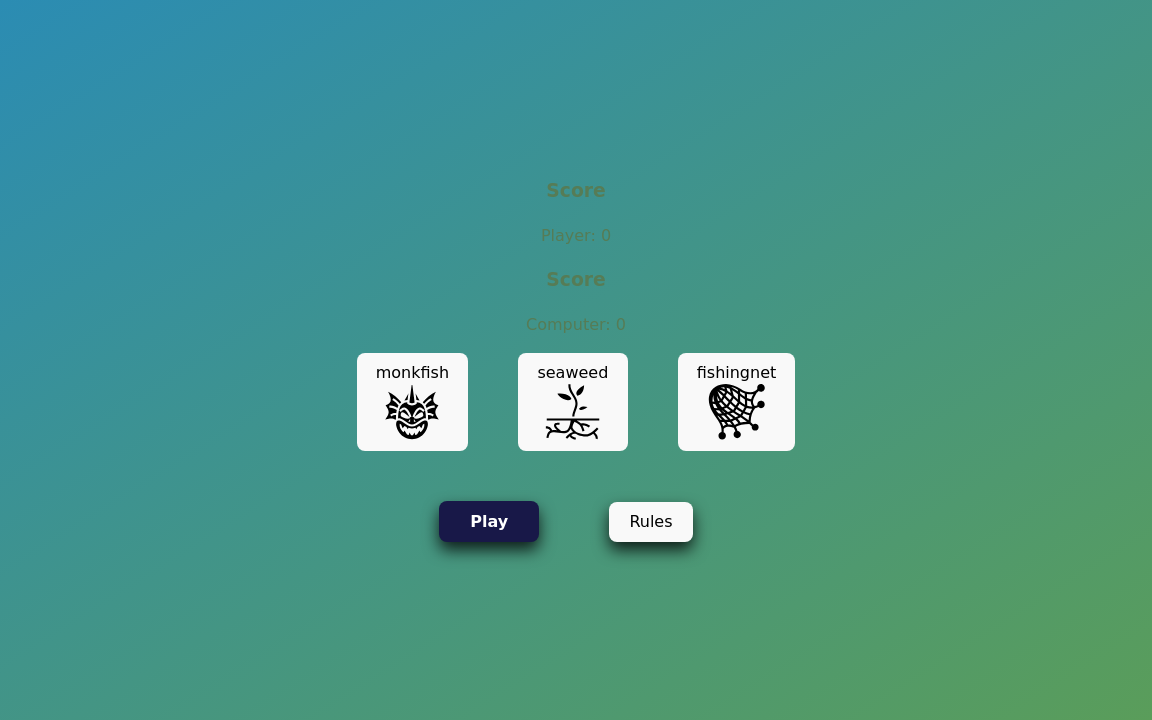
Test: Score and results › should display Player winner message on the page
This screenshot has width=1152, height=720.
Click the button "fishingnet": (736, 402) [678,353,795,451]
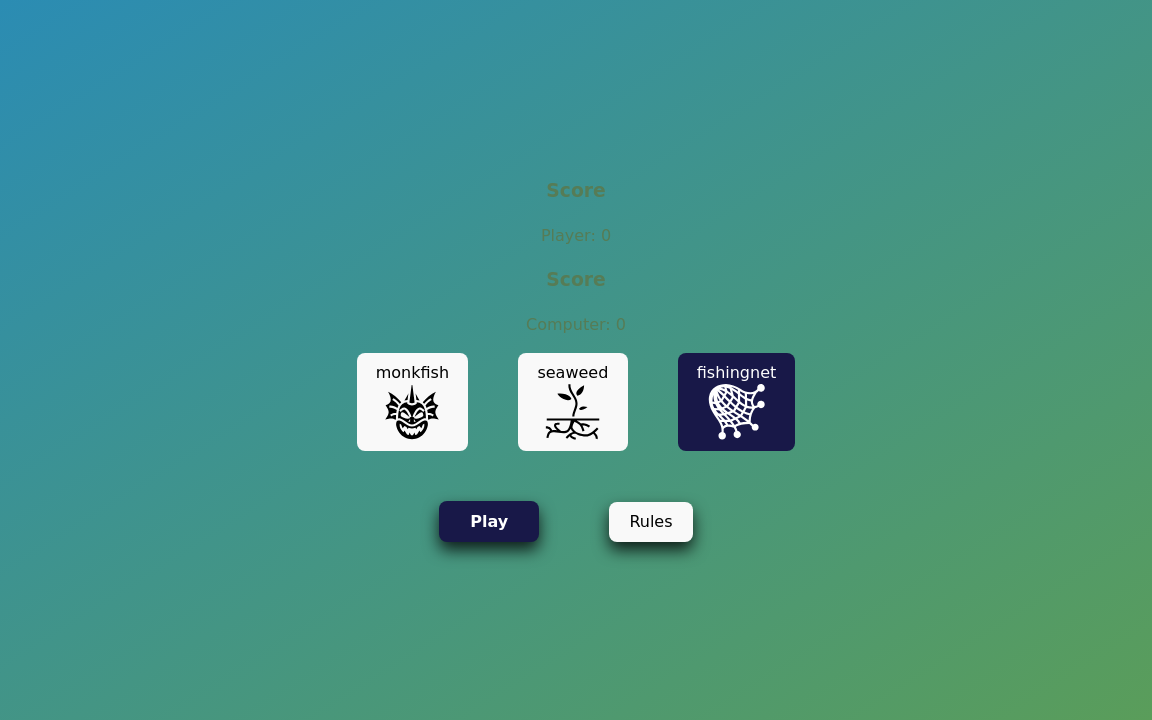
Click the button "Play": (489, 522) [439,501,539,542]
Wait 3000 ms
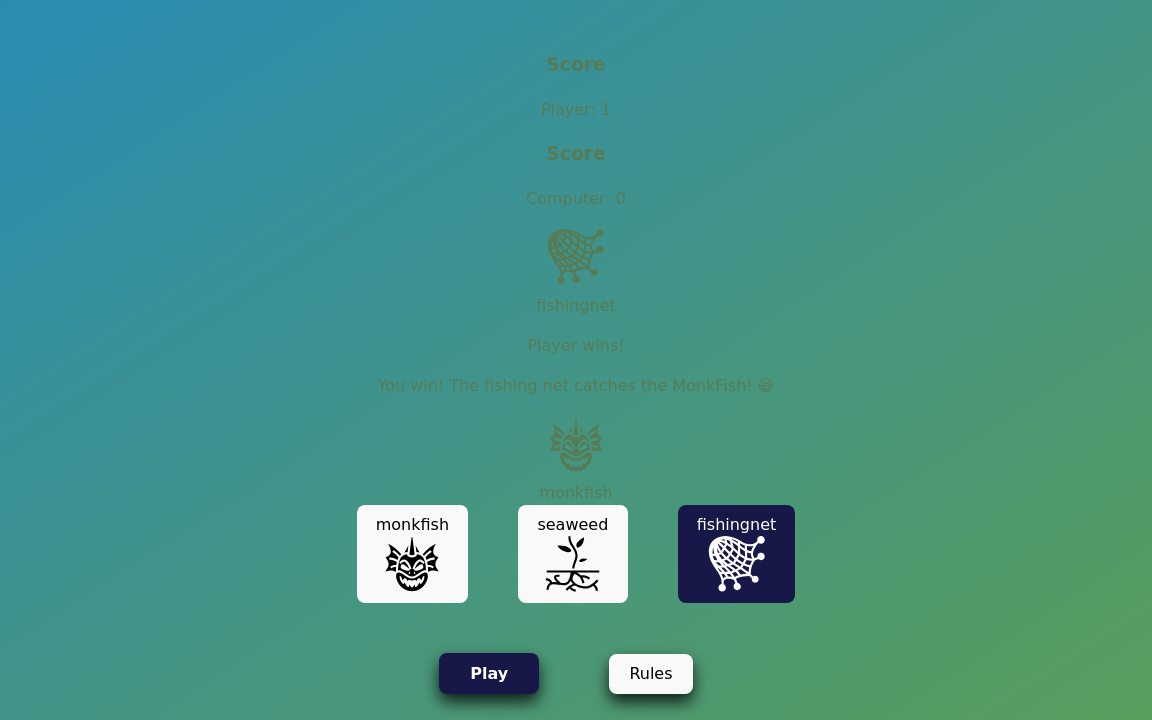
Result: the text "Player wins!" is shown at [527,336,625,355]
Result: the text "You win! The fishing net catches the MonkFish! 😆" is shown at [356,374,796,398]
Result: the text "Player: 1" is shown at [541,100,611,118]
